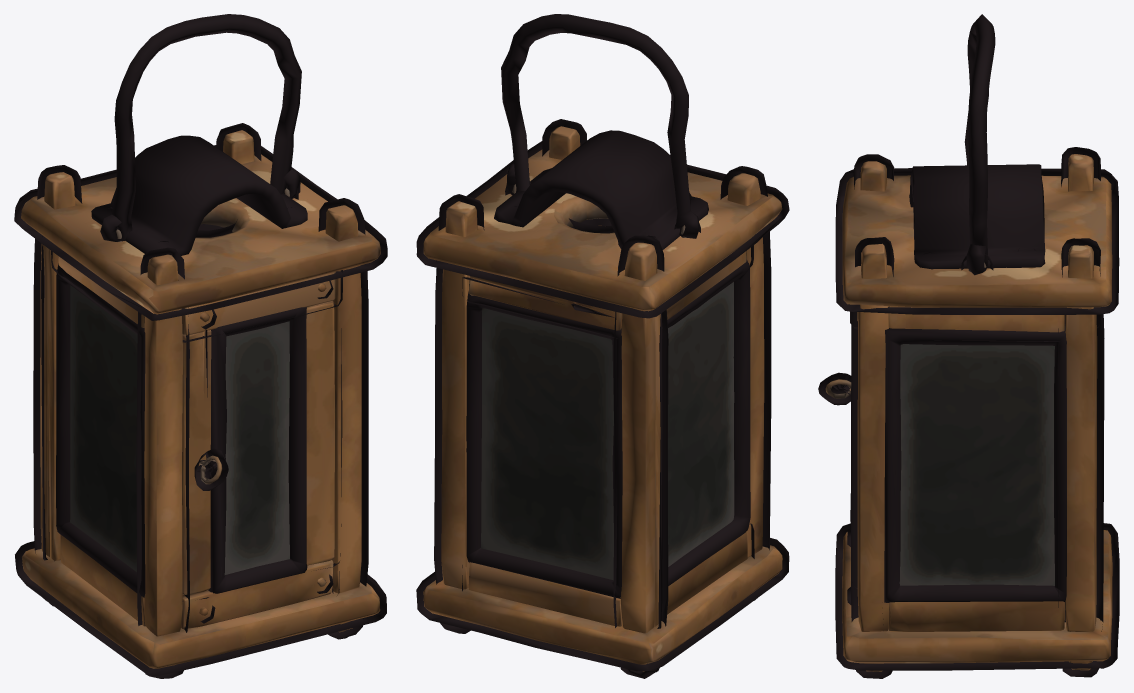
The model's file is SM_Int_Lantern.fbx.
3 views of the same model, side by side, from view 1: azimuth 30°, elevation 25°; view 2: azimuth 150°, elevation 25°; view 3: azimuth 270°, elevation 25° (orthographic).
Visible parts, largest first — view 1: SM_Int_Lantern; view 2: SM_Int_Lantern; view 3: SM_Int_Lantern.
Part boxes in pixels (<box>): SM_Int_Lantern: <box>14,14,387,678</box>; SM_Int_Lantern: <box>416,14,789,678</box>; SM_Int_Lantern: <box>818,14,1119,678</box>.
Bounding box in the file's own units: 0.2327 × 0.5419 × 0.2466.
